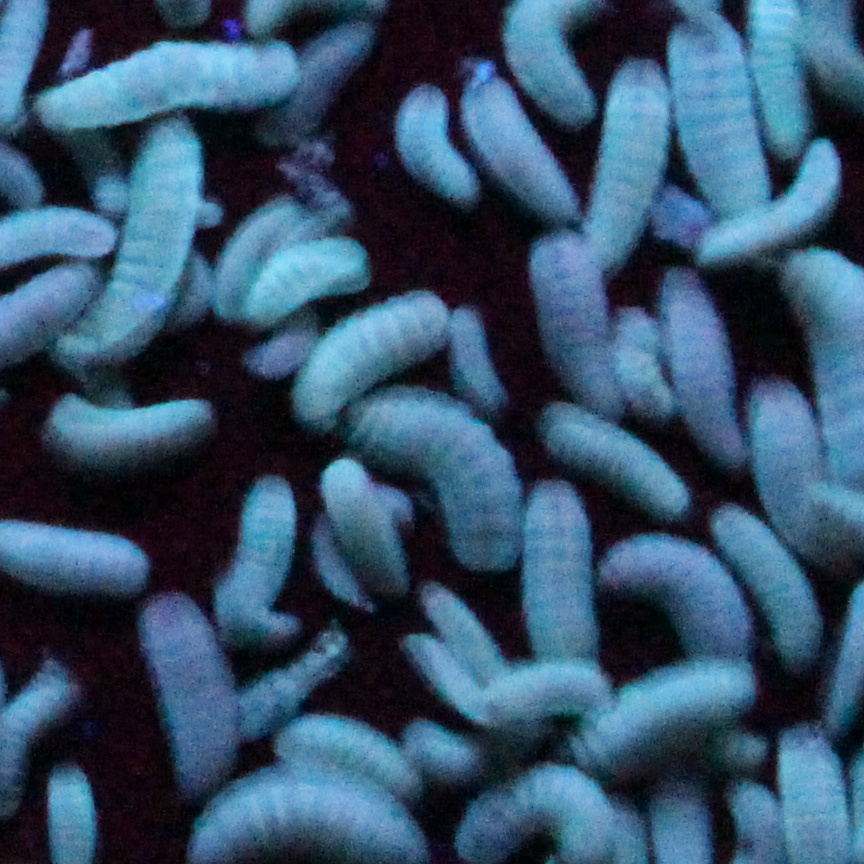larve: (52, 110, 206, 368), (335, 388, 524, 555), (699, 489, 838, 677), (33, 45, 304, 134), (519, 228, 634, 424), (138, 584, 242, 794), (577, 659, 770, 771), (298, 283, 462, 412), (596, 519, 748, 656), (455, 62, 578, 220), (694, 140, 850, 262), (539, 400, 694, 517), (512, 463, 602, 662), (277, 692, 427, 811), (220, 469, 304, 649), (660, 264, 738, 454), (40, 394, 220, 472), (321, 453, 423, 590), (739, 352, 820, 517), (405, 579, 521, 686), (391, 75, 484, 206), (397, 628, 488, 723), (252, 243, 375, 312), (303, 504, 371, 624), (445, 302, 508, 415)
